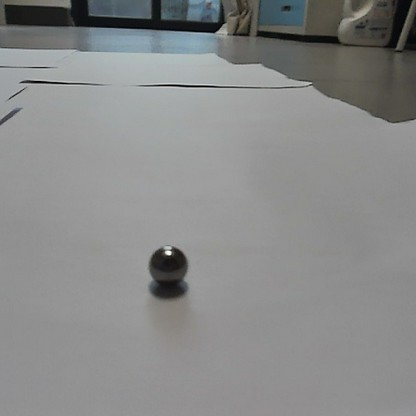ironball: (146, 243, 191, 288)
